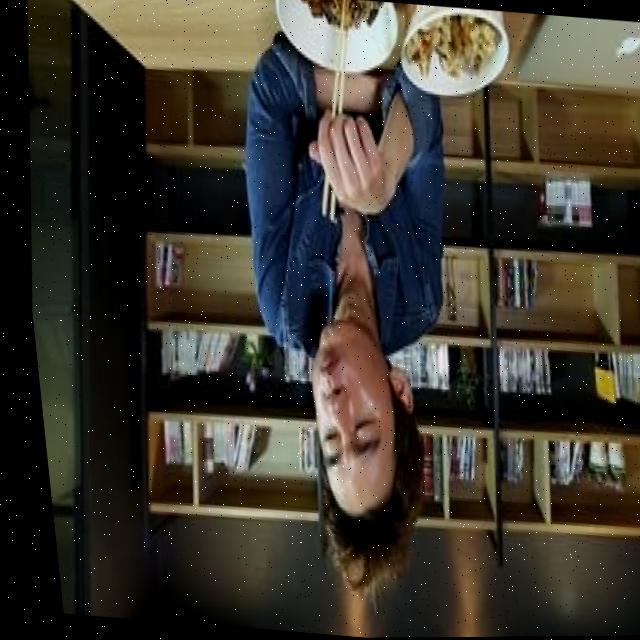eating-person: (177, 0, 566, 628)
